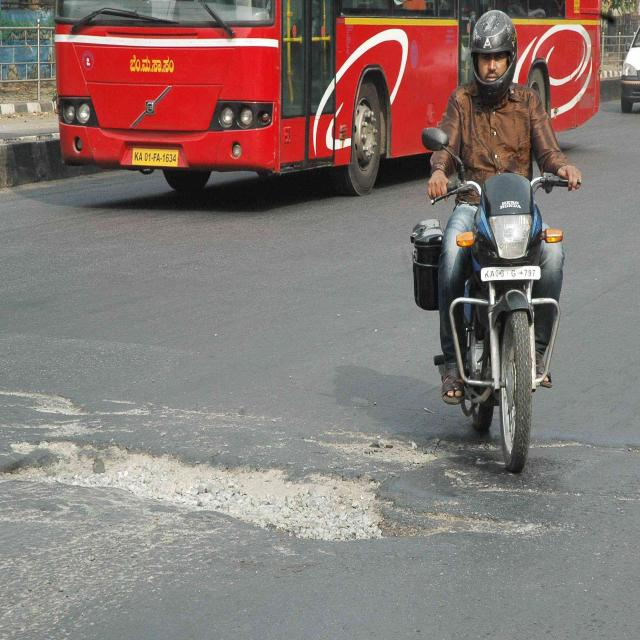not_triplets: (415, 0, 572, 478)
with-helmet: (468, 3, 520, 98)
